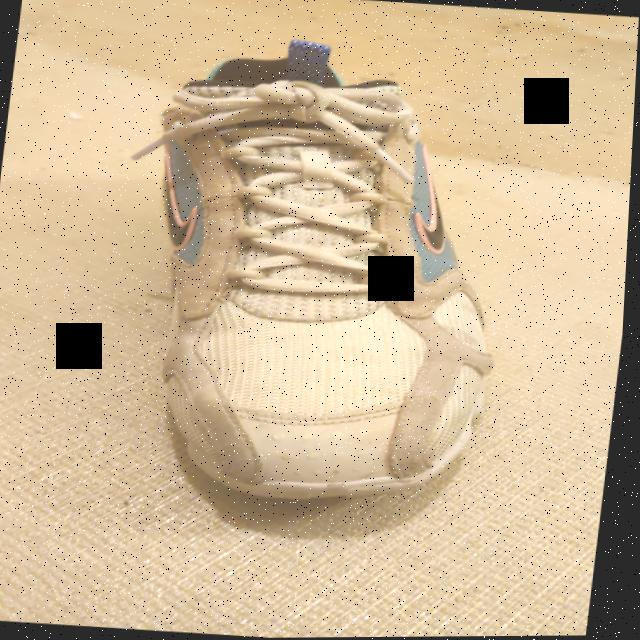shoes: (116, 27, 536, 517)
